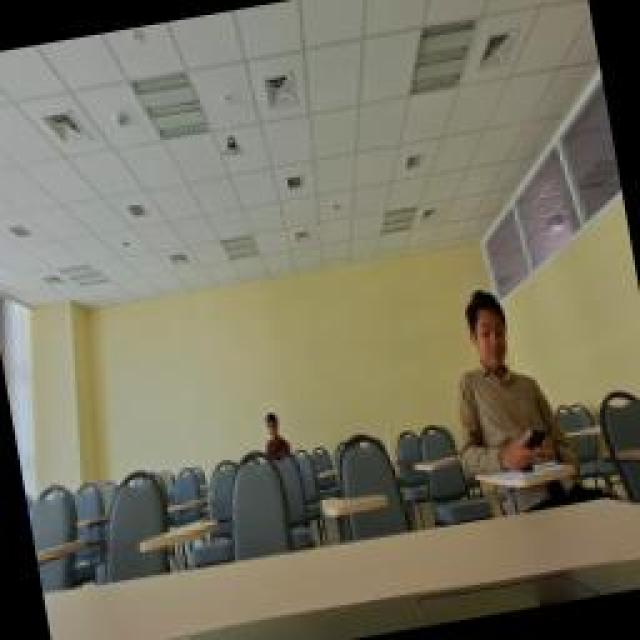phone: (432, 282, 570, 480)
study: (258, 410, 292, 465)
